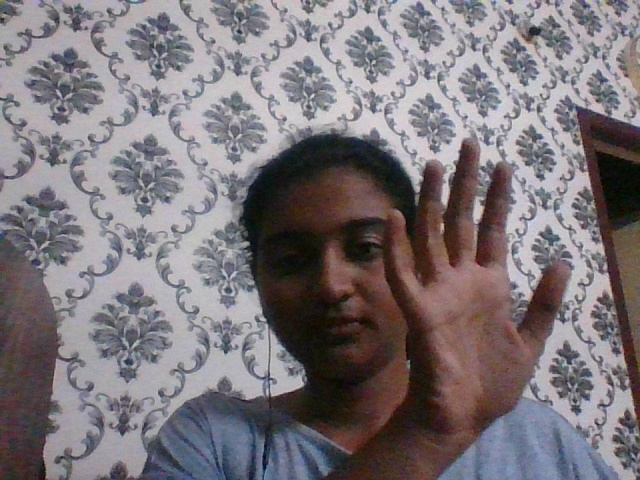hello: (380, 132, 575, 390)
